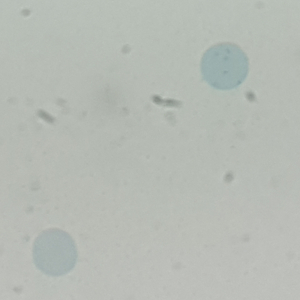erythrocyte: (31, 227, 79, 278)
punctate reticulocyte: (198, 40, 251, 92)
